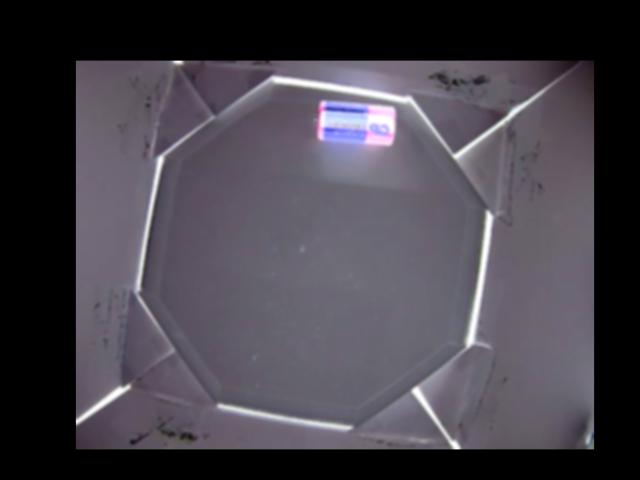Battery: (313, 99, 399, 146)
